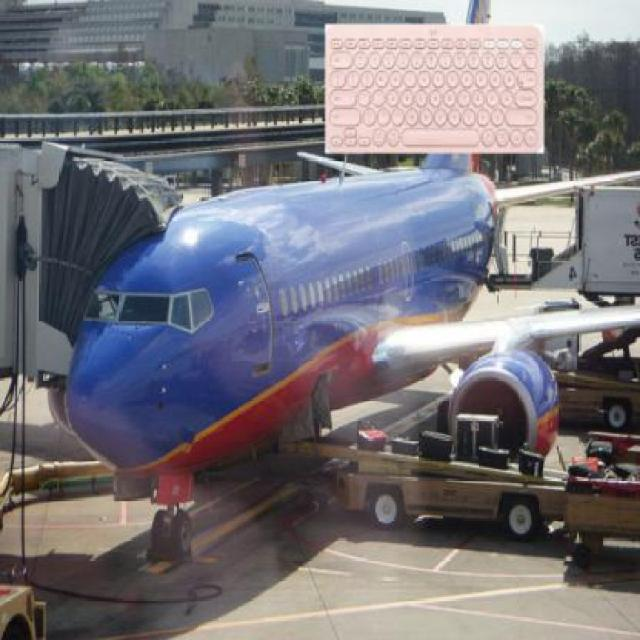keyboard: (322, 28, 547, 158)
